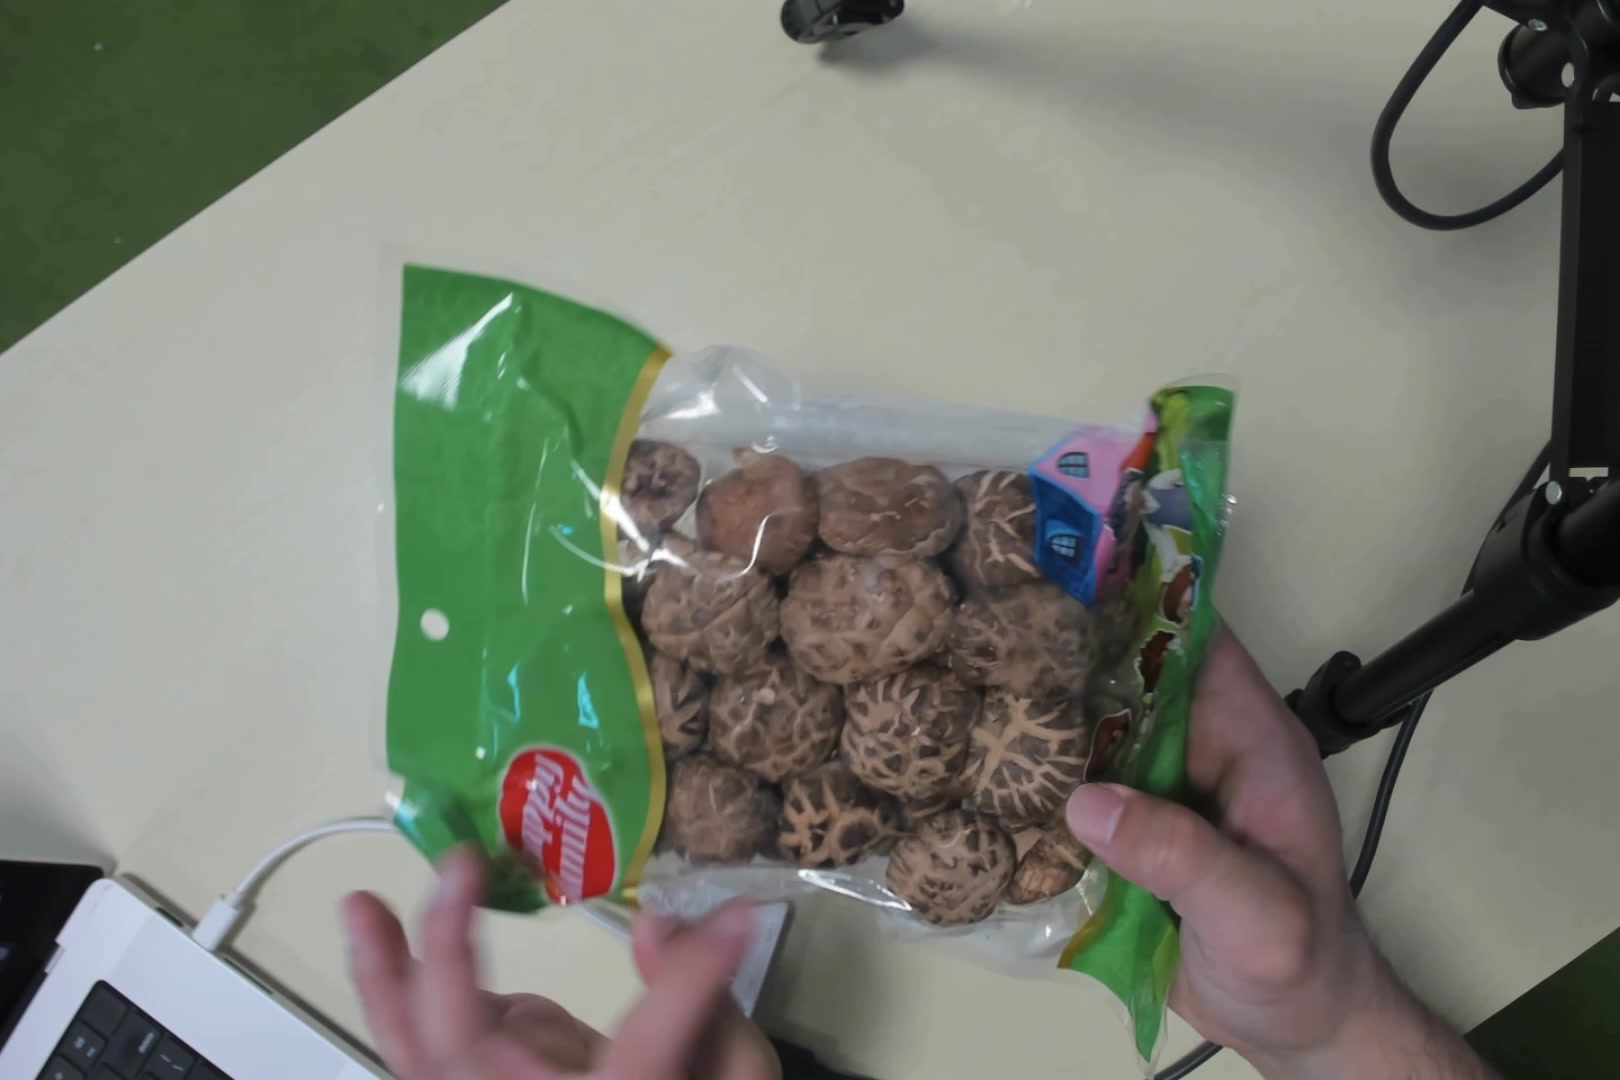OtherDriedFood_100-199g_NonHalal_NonHealthy: (427, 345, 1220, 958)
